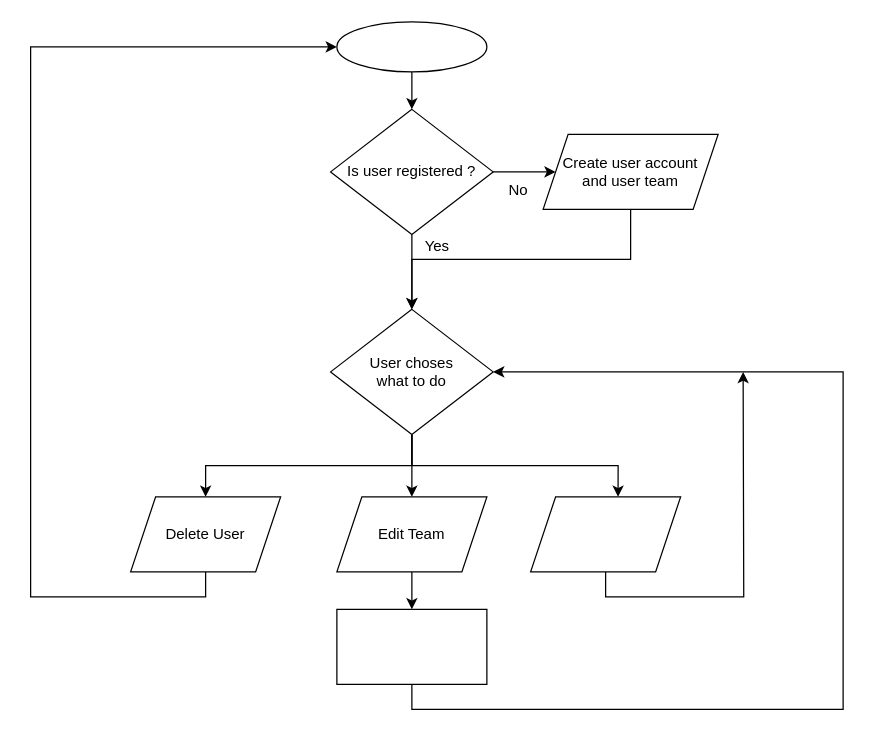
This 875x741 diagram has some shape labels left out. The centre of each missing label's shape, as x and y in pixels:
"Edit Team Name" goes at (x=605, y=534).
"Save Team" goes at (x=411, y=646).
"START" goes at (x=411, y=46).
